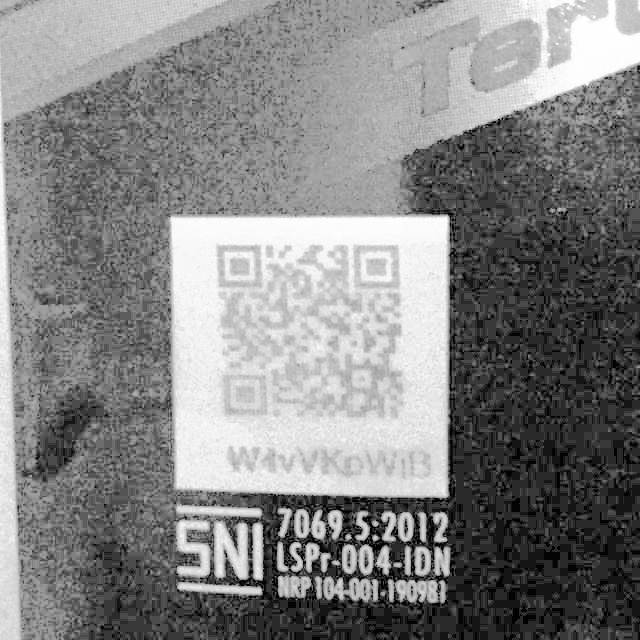qr_code: (211, 236, 420, 430)
